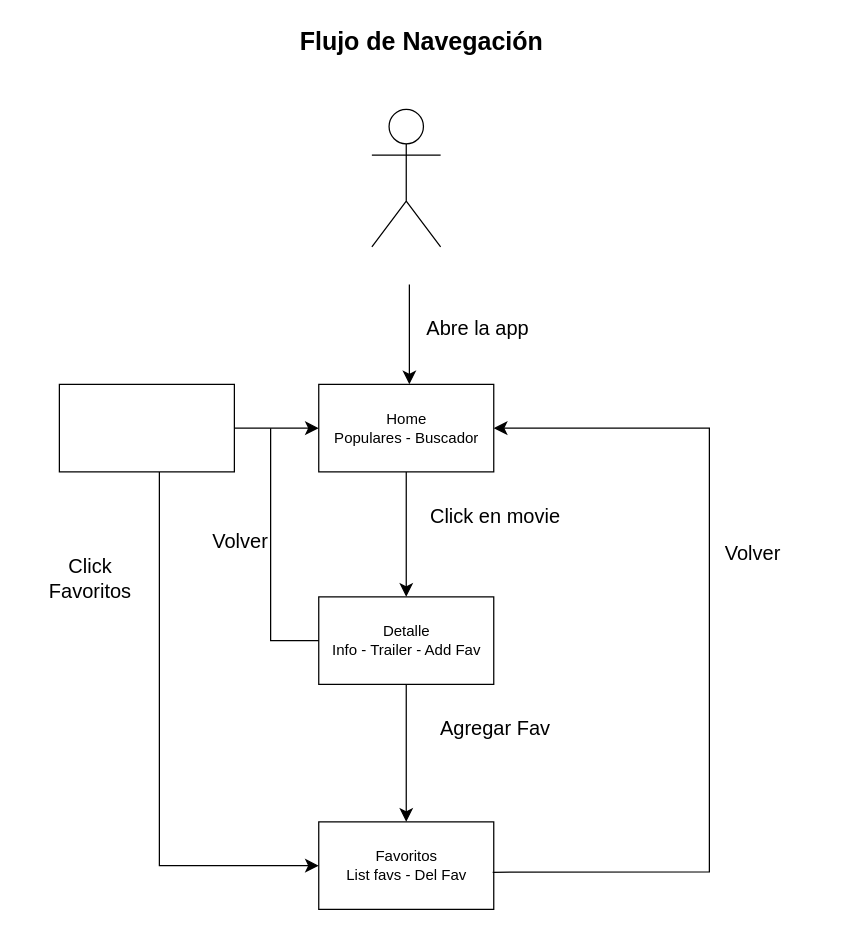
The diagram is 843 pixels wide and 931 high, and some of its shapes have lost their labels. The shapes that lost their labels are listed below. From the top down, each one's box as (x1, y1, x2, y2) in pixels, then its label:
(371, 108, 441, 247): Usuario
(58, 383, 234, 472): NavBar Inicio - Favoritos
